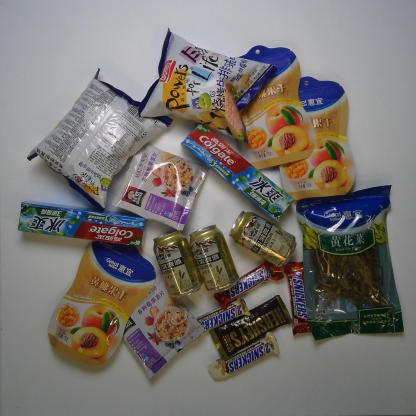Alcohol: (226, 209, 298, 270), (187, 222, 241, 294), (153, 228, 204, 300)
Chocolate: (206, 294, 296, 360), (212, 258, 286, 310), (206, 331, 280, 382), (282, 259, 319, 336), (185, 297, 252, 337)
Dried Food: (296, 181, 407, 343)
Dried Fruit: (44, 236, 157, 369), (221, 44, 317, 174), (267, 72, 358, 200)
Instant Drink: (112, 267, 207, 383), (108, 140, 214, 233)
Personal Hygiene: (180, 122, 296, 224), (15, 198, 147, 249)
Puffed Food: (23, 66, 174, 216), (136, 25, 278, 143)
